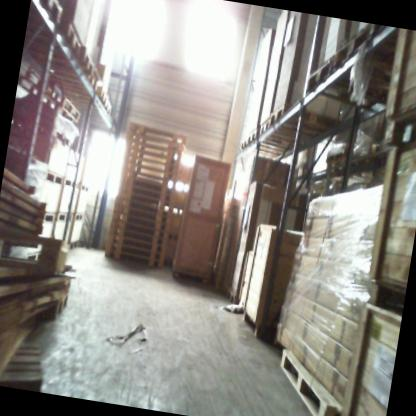pallet: (271, 347, 351, 416), (303, 51, 393, 110), (19, 66, 86, 124), (12, 74, 81, 128), (24, 36, 96, 77), (267, 101, 341, 140), (23, 14, 84, 57), (332, 20, 372, 76), (258, 117, 312, 148), (43, 63, 99, 92), (245, 126, 295, 155), (238, 136, 284, 159), (37, 289, 68, 322), (67, 82, 108, 106), (72, 90, 113, 114), (27, 0, 64, 26), (34, 126, 71, 147), (44, 171, 64, 185), (22, 248, 42, 262), (225, 289, 242, 305), (41, 211, 56, 223), (62, 177, 76, 188), (66, 239, 78, 251), (56, 211, 67, 222), (73, 212, 84, 221), (80, 184, 89, 192), (67, 212, 73, 221)
